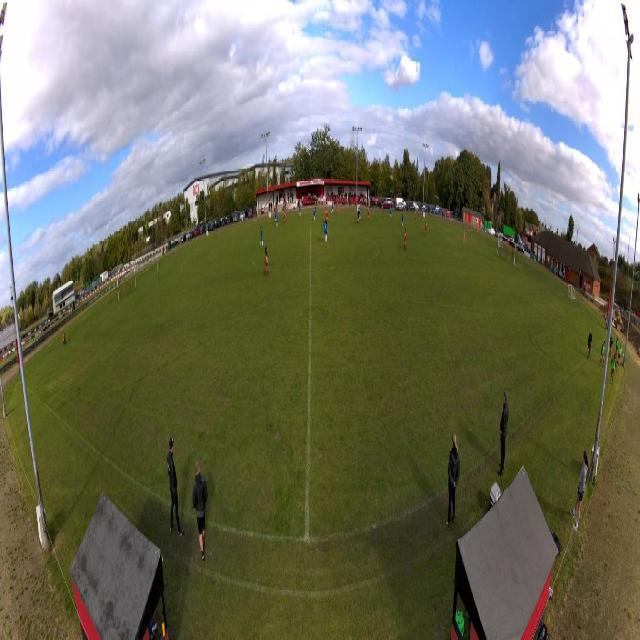player: (263, 247, 269, 277), (324, 220, 328, 244), (403, 228, 407, 250), (356, 207, 360, 224), (325, 208, 329, 224), (260, 226, 263, 247), (157, 262, 160, 280), (424, 220, 427, 237), (275, 213, 278, 229), (367, 206, 370, 222), (313, 207, 316, 221), (331, 200, 334, 214), (389, 205, 392, 219), (463, 229, 466, 243), (299, 205, 302, 217), (284, 209, 286, 226), (359, 204, 361, 220), (402, 211, 404, 227), (275, 208, 277, 223), (382, 202, 384, 216), (336, 202, 338, 213), (415, 207, 416, 221)
